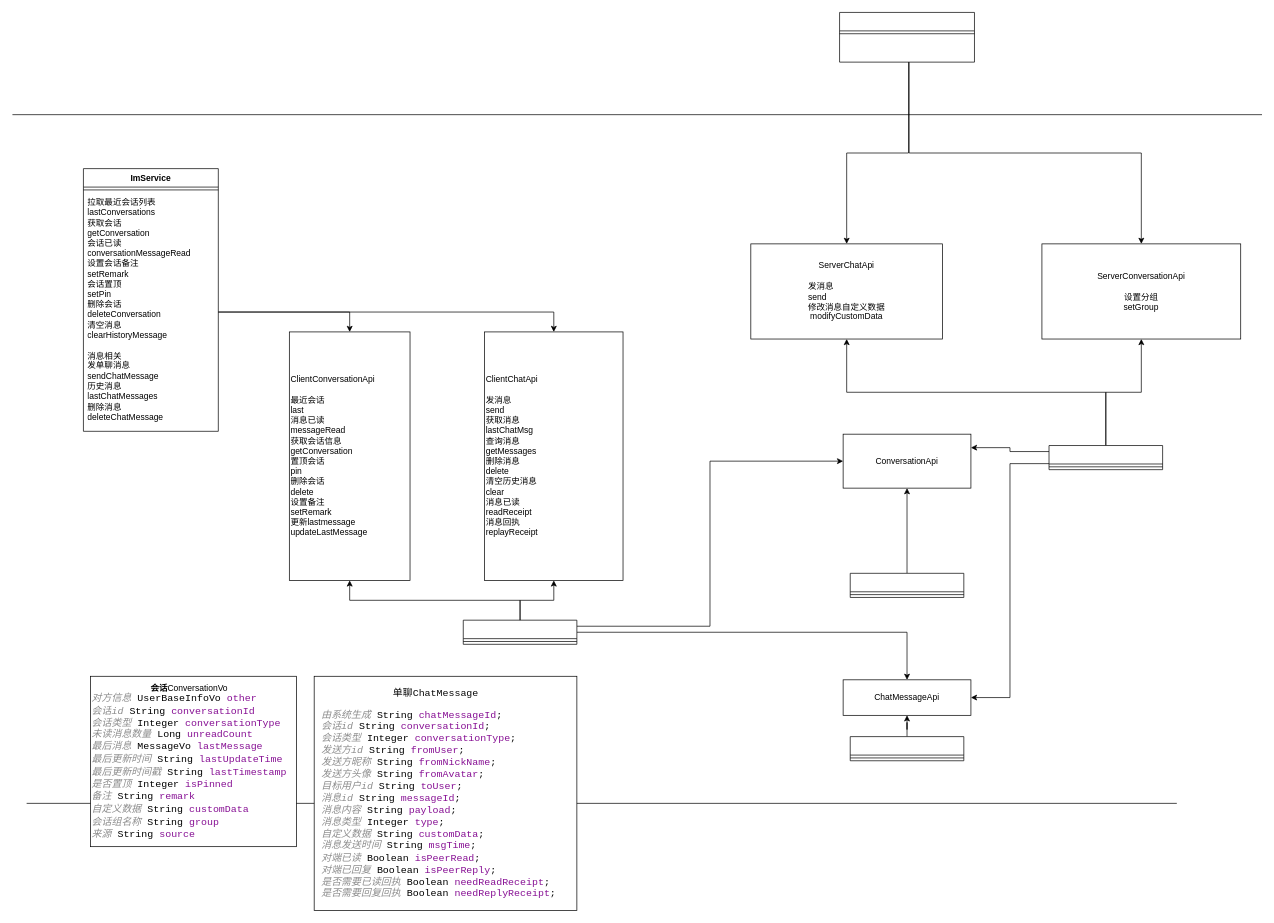
Image size: 1274x923. Some labels were removed from this diagram. Here are the shapes that lost their labels. From the top down, the centre of each, then its label:
At [906,37]: "MessageService".
At [1105,457]: "ServerApiImpl".
At [907,585]: "ConversationApiImpl".
At [520,631]: "ClentApiImpl".
At [907,748]: "ChatMessageApiImpl".
